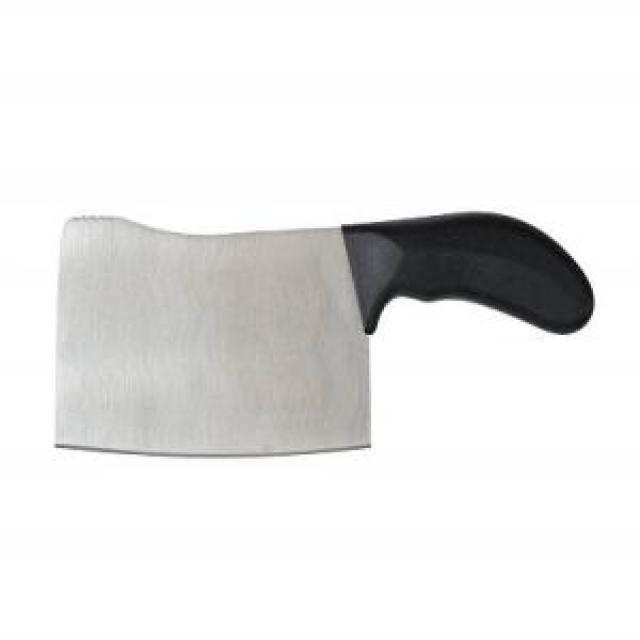knife: (49, 209, 602, 460)
